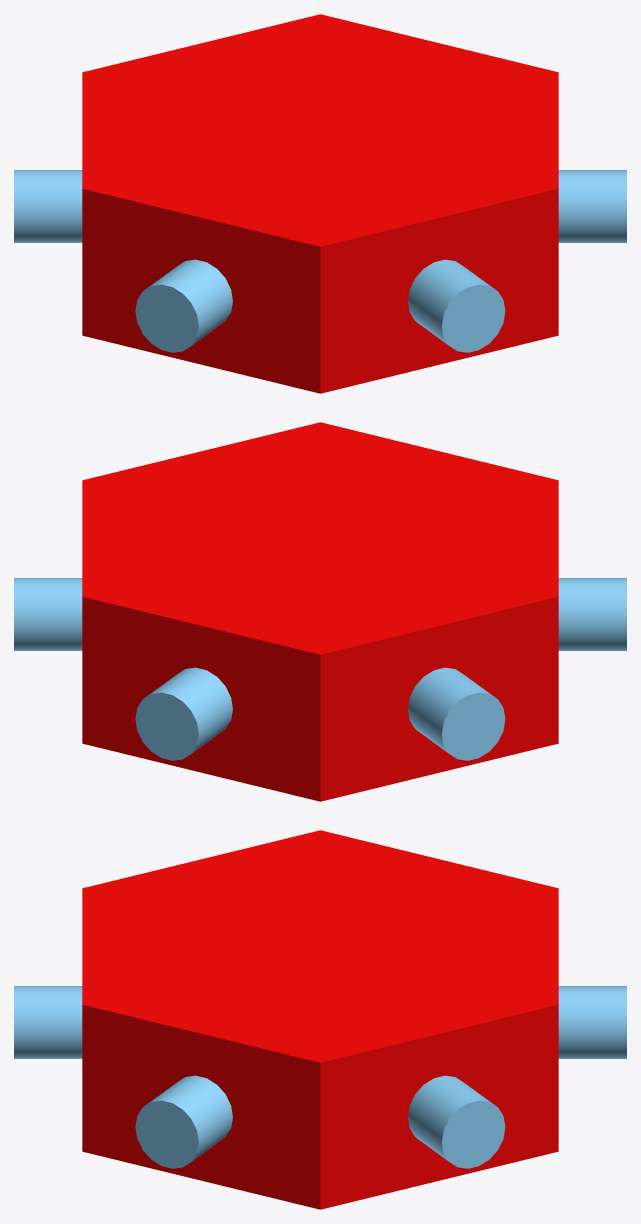
File: Holo_Usine.fbx
3 views of the same model, one above another, from view 1: azimuth 30°, elevation 25°; view 2: azimuth 150°, elevation 25°; view 3: azimuth 270°, elevation 25° (orthographic).
Parts seen in each view (by area): view 1: Holo_Usine, Connexion (×4); view 2: Holo_Usine, Connexion (×4); view 3: Holo_Usine, Connexion (×4).
Boxes of the visible parts, bbox=[...] form: Holo_Usine: bbox=[82, 14, 558, 393]; Connexion (×4): bbox=[14, 170, 626, 352]; Holo_Usine: bbox=[82, 422, 558, 801]; Connexion (×4): bbox=[14, 578, 626, 760]; Holo_Usine: bbox=[82, 830, 558, 1209]; Connexion (×4): bbox=[14, 986, 626, 1168].
Size of the model in its own units: 722 by 206 by 780.
